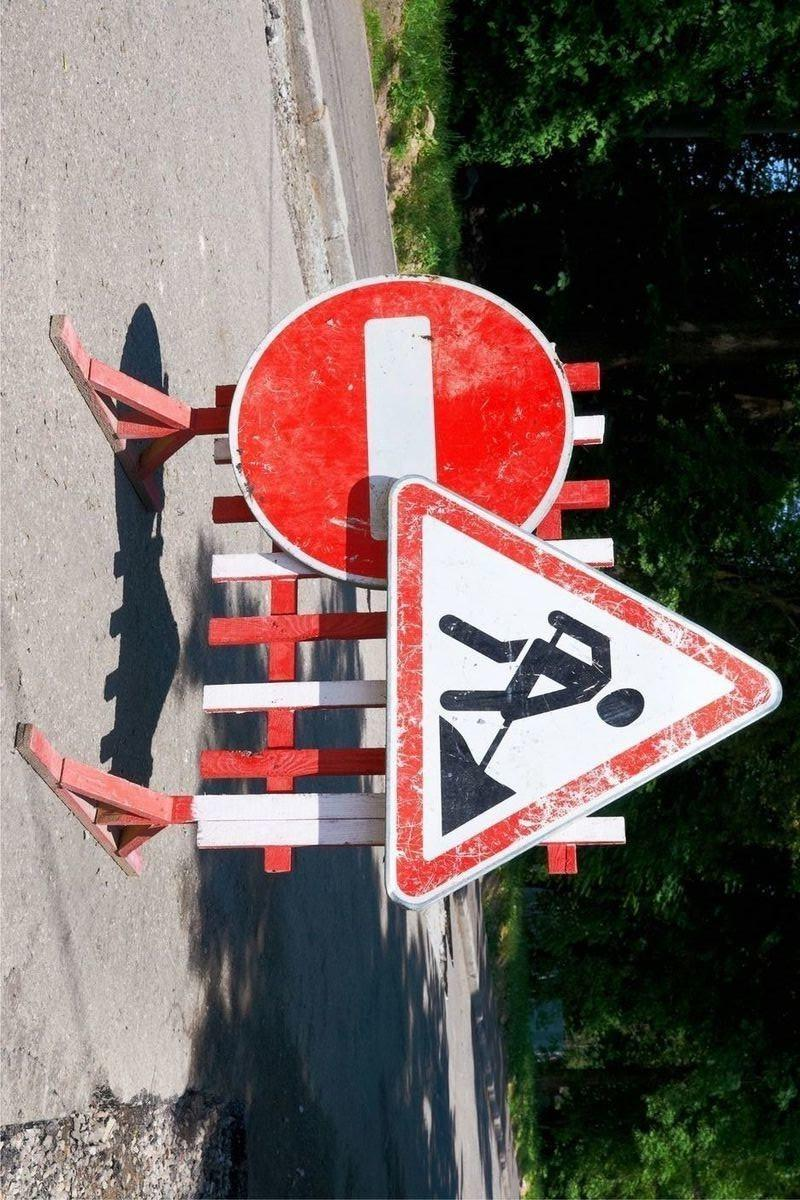road_sign: (386, 474, 783, 908), (227, 275, 576, 589)
